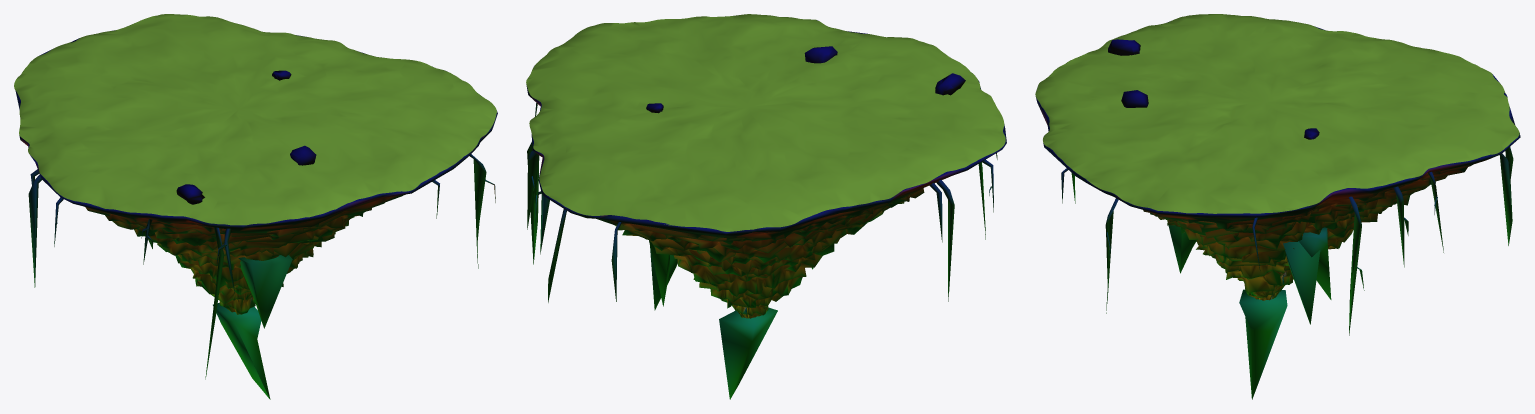
The model's file is SM_FloatingRock_C_L1.glb.
3 views of the same model, side by side, from view 1: azimuth 30°, elevation 25°; view 2: azimuth 150°, elevation 25°; view 3: azimuth 270°, elevation 25° (orthographic). The views are drawn at different scales.
Visible parts, largest first — view 1: SM_FloatingRock_C; view 2: SM_FloatingRock_C; view 3: SM_FloatingRock_C.
Part boxes in pixels (left/top/right/bottom): SM_FloatingRock_C: left=14, top=14, right=497, bottom=399; SM_FloatingRock_C: left=526, top=14, right=1006, bottom=399; SM_FloatingRock_C: left=1035, top=14, right=1520, bottom=399.
Bounding box in the file's own units: 43.44 × 29.72 × 44.41.
